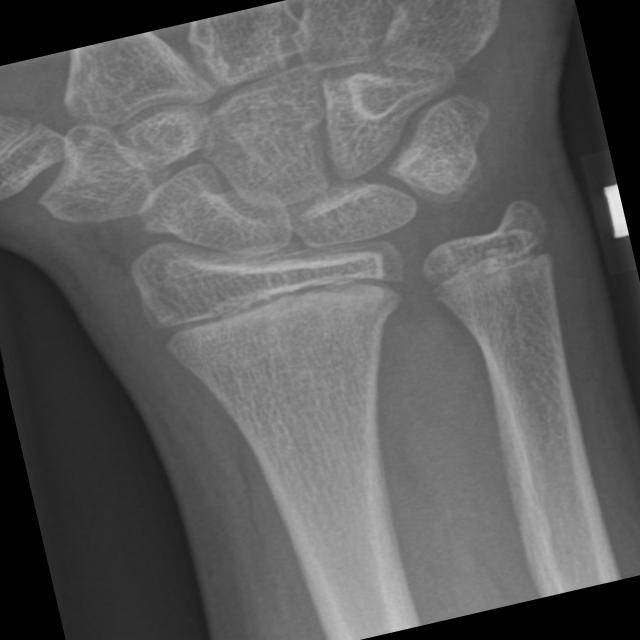fracture: (128, 227, 432, 381)
